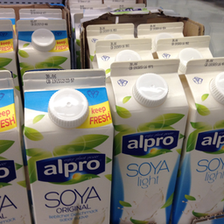milk: (20, 71, 113, 224), (108, 60, 188, 223), (175, 59, 223, 222)
